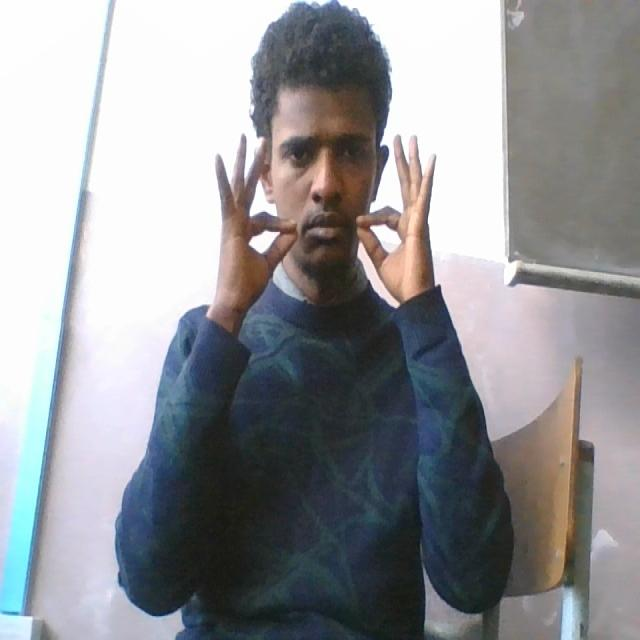dmet: (207, 130, 443, 310)
